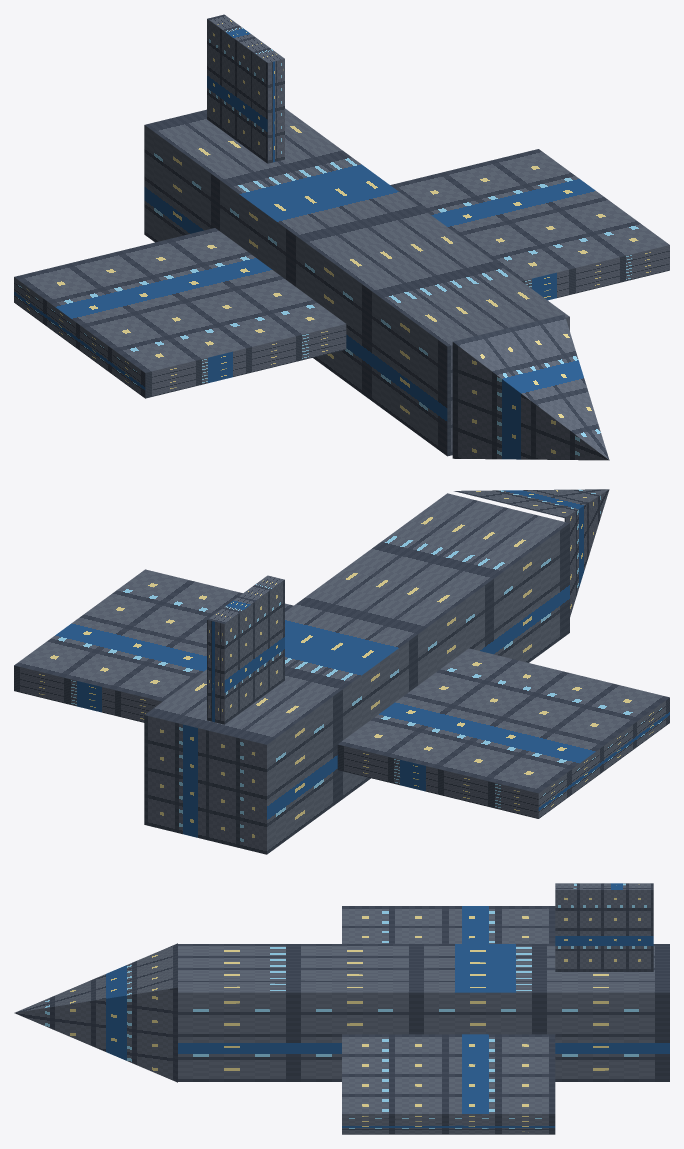
The picture shows the model from 3 angles, top to bottom: view 1: azimuth 30°, elevation 25°; view 2: azimuth 150°, elevation 25°; view 3: azimuth 270°, elevation 25°; orthographic projection. The views are drawn at different scales.
Visible parts, largest first — view 1: hull; view 2: hull; view 3: hull.
Boxes of the visible parts, box(x1,y1,x2,y2) form: hull: box(14, 14, 669, 460); hull: box(14, 489, 669, 854); hull: box(14, 883, 669, 1134).
Bounding box in the file's own units: 3.12 × 1.22 × 4.17.
1 material, 1 textured.
